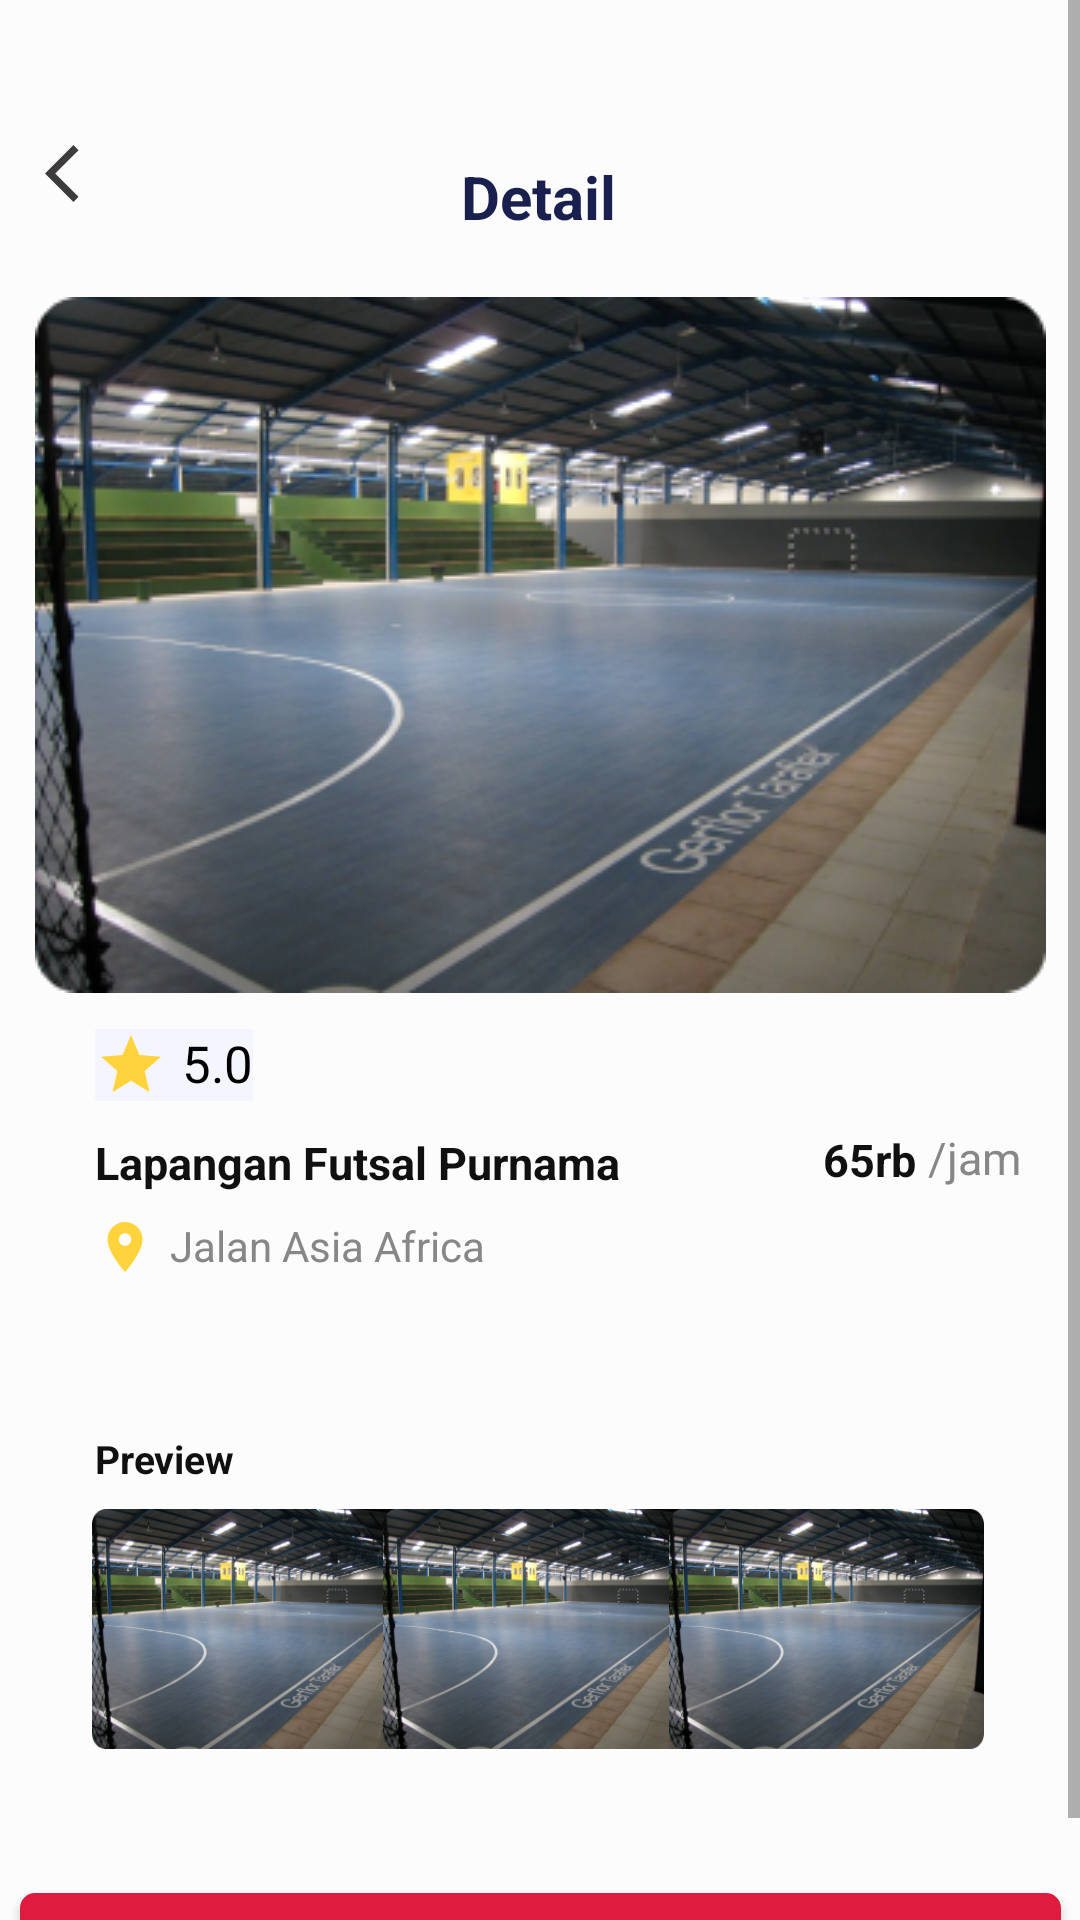

Screen size 1080w x 1920h. Icon name, then its center in pixels as [x,y]:
arrow back: [62,173]
